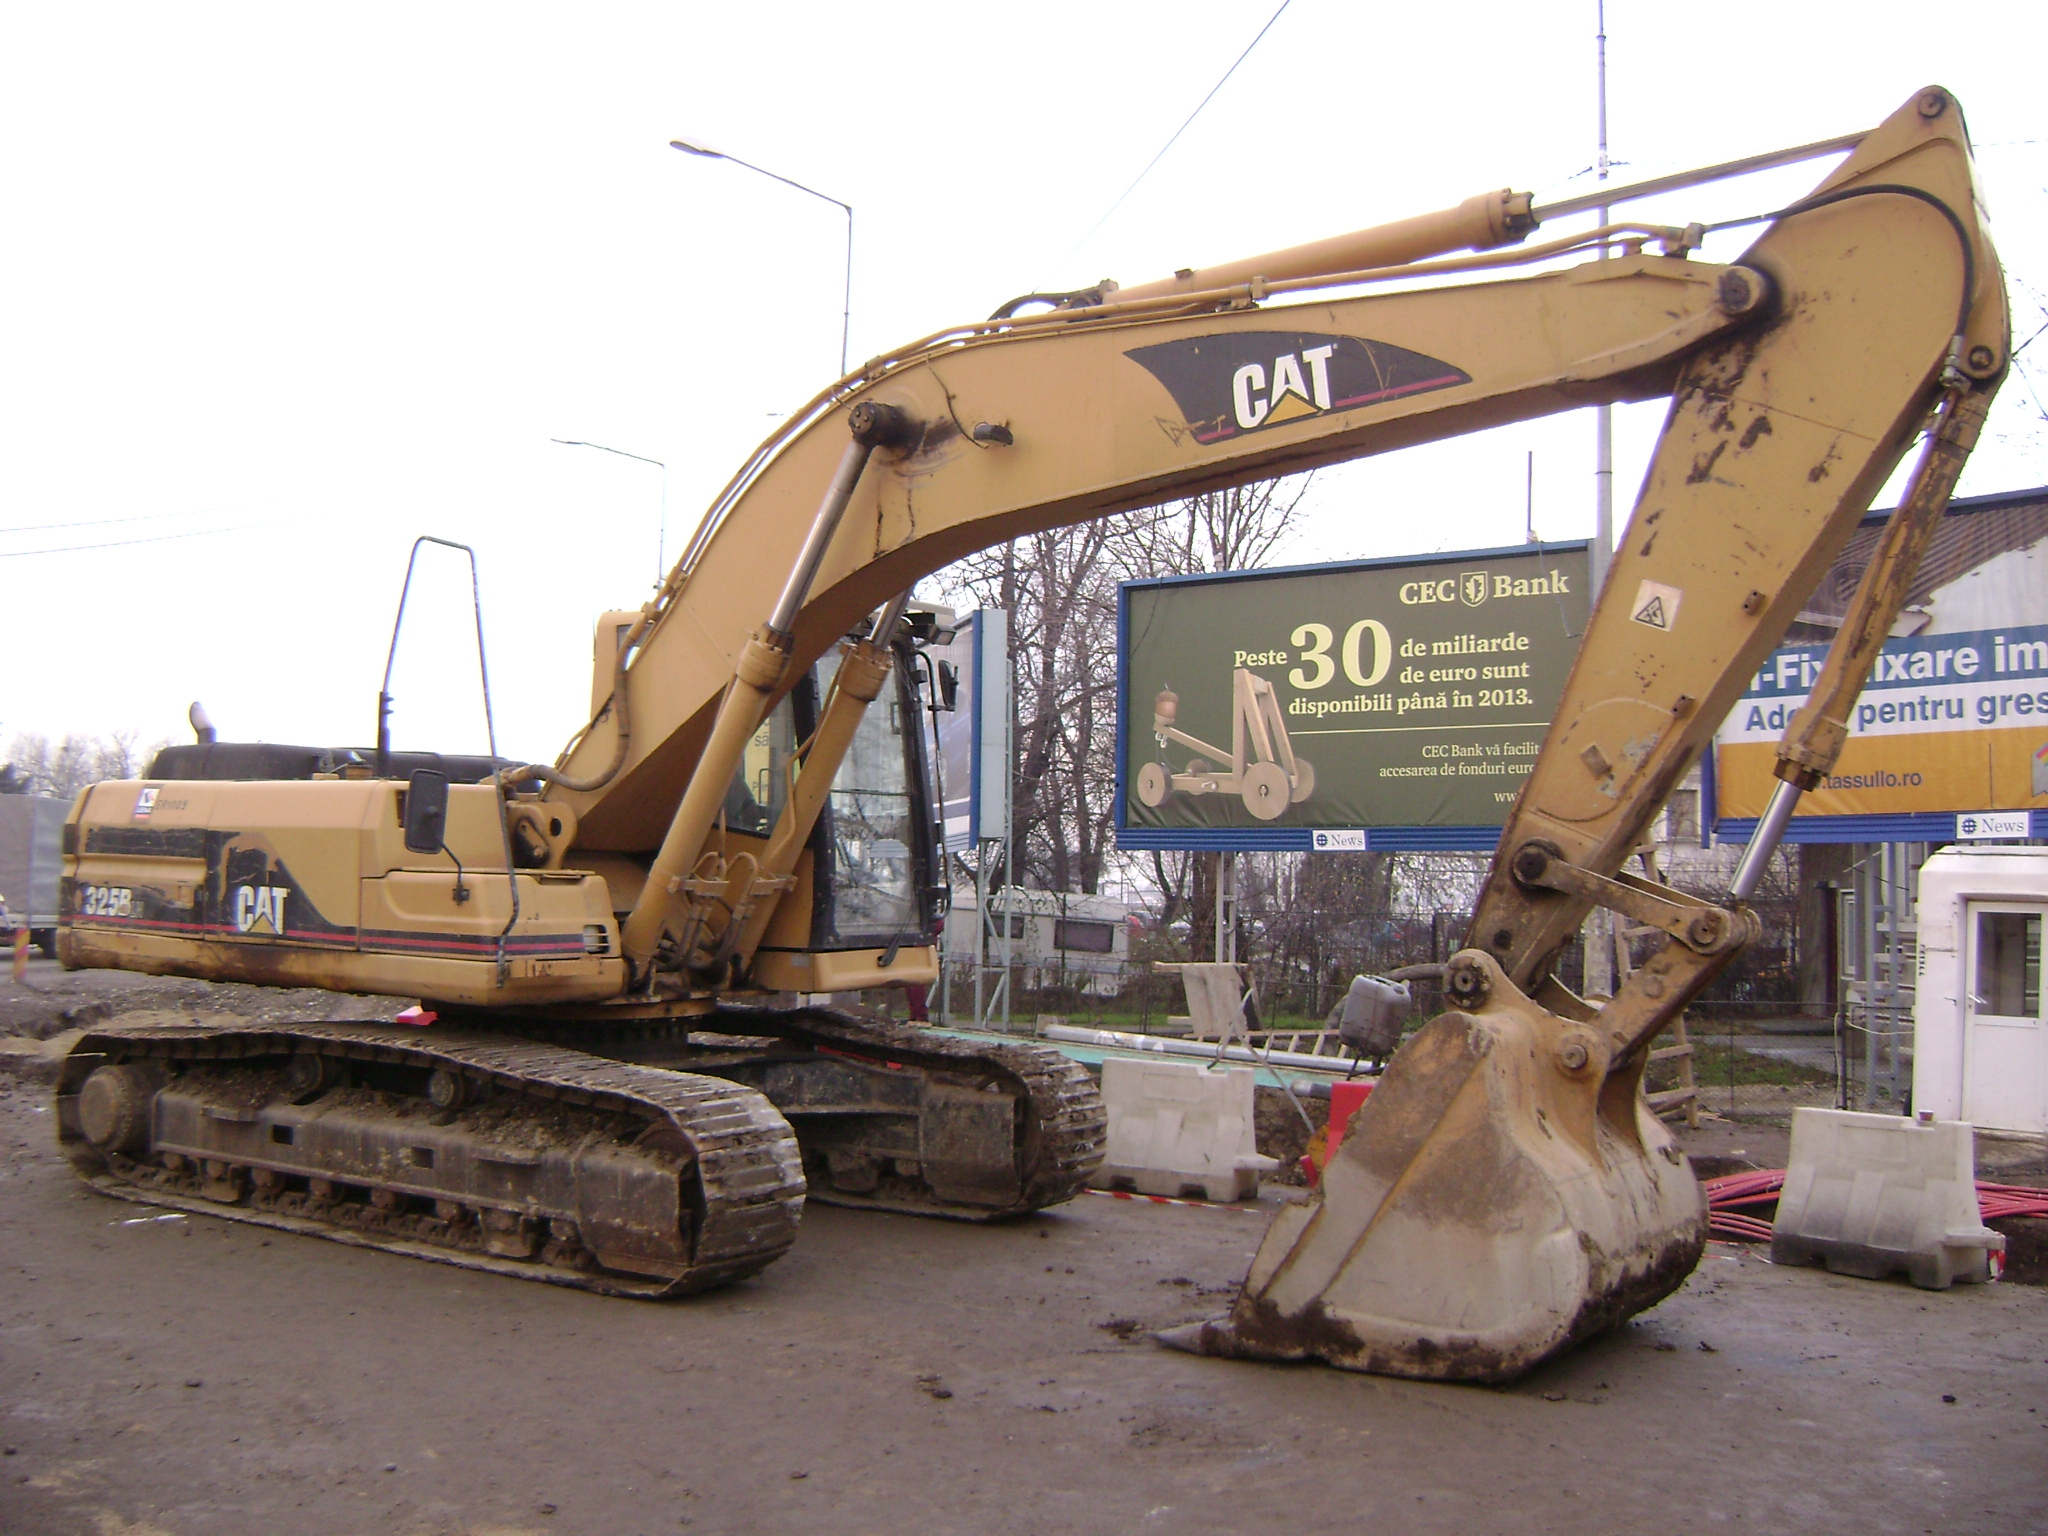excavator: (53, 81, 2017, 1391)
